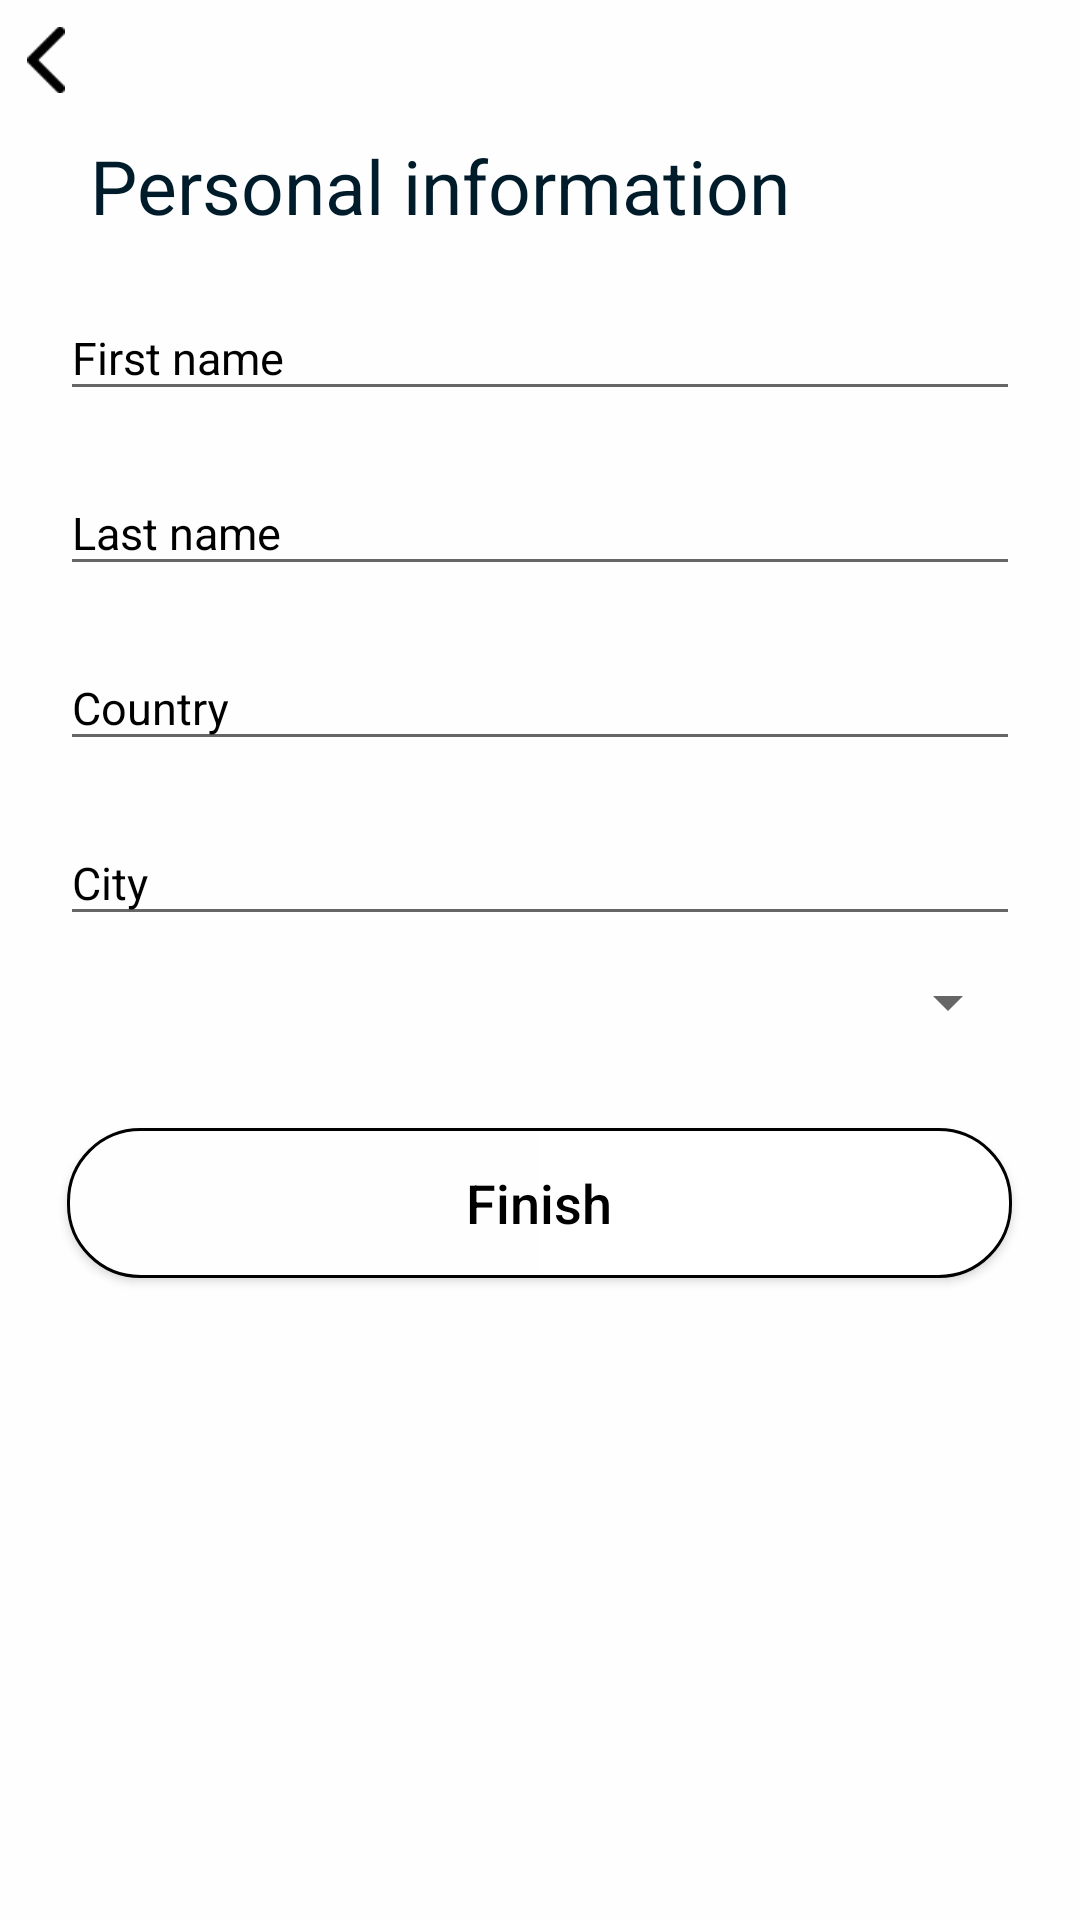

Where to tap for icons on this 1080×1920 app screen, as (x=x, y=y):
back: (x=46, y=60)
